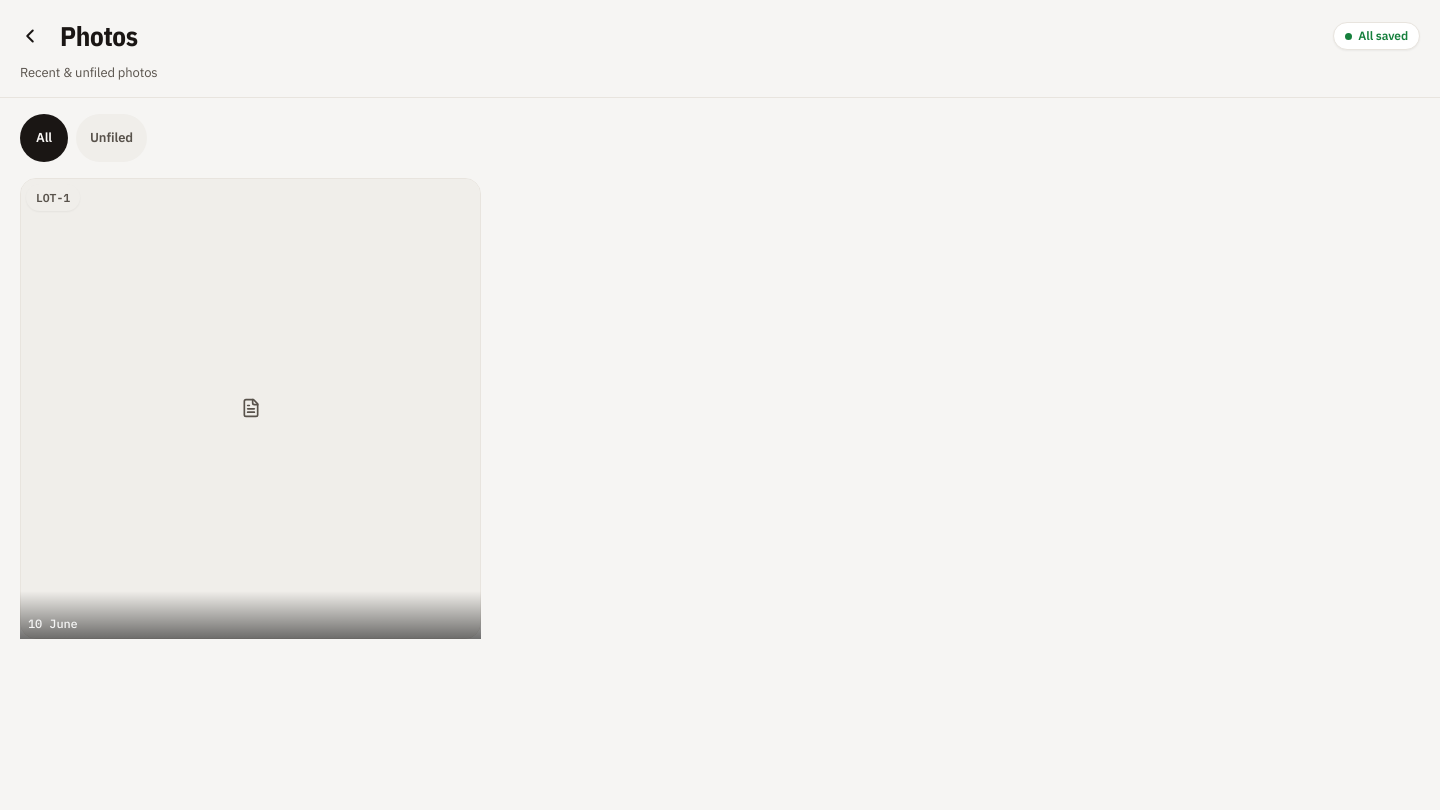
Scenario: PhotosListScreen › shows the tidy empty state when nothing is unfiled
The image size is (1440, 810).
Step 1. Click the button "Unfiled" → (112, 138), box [76,114,147,162]
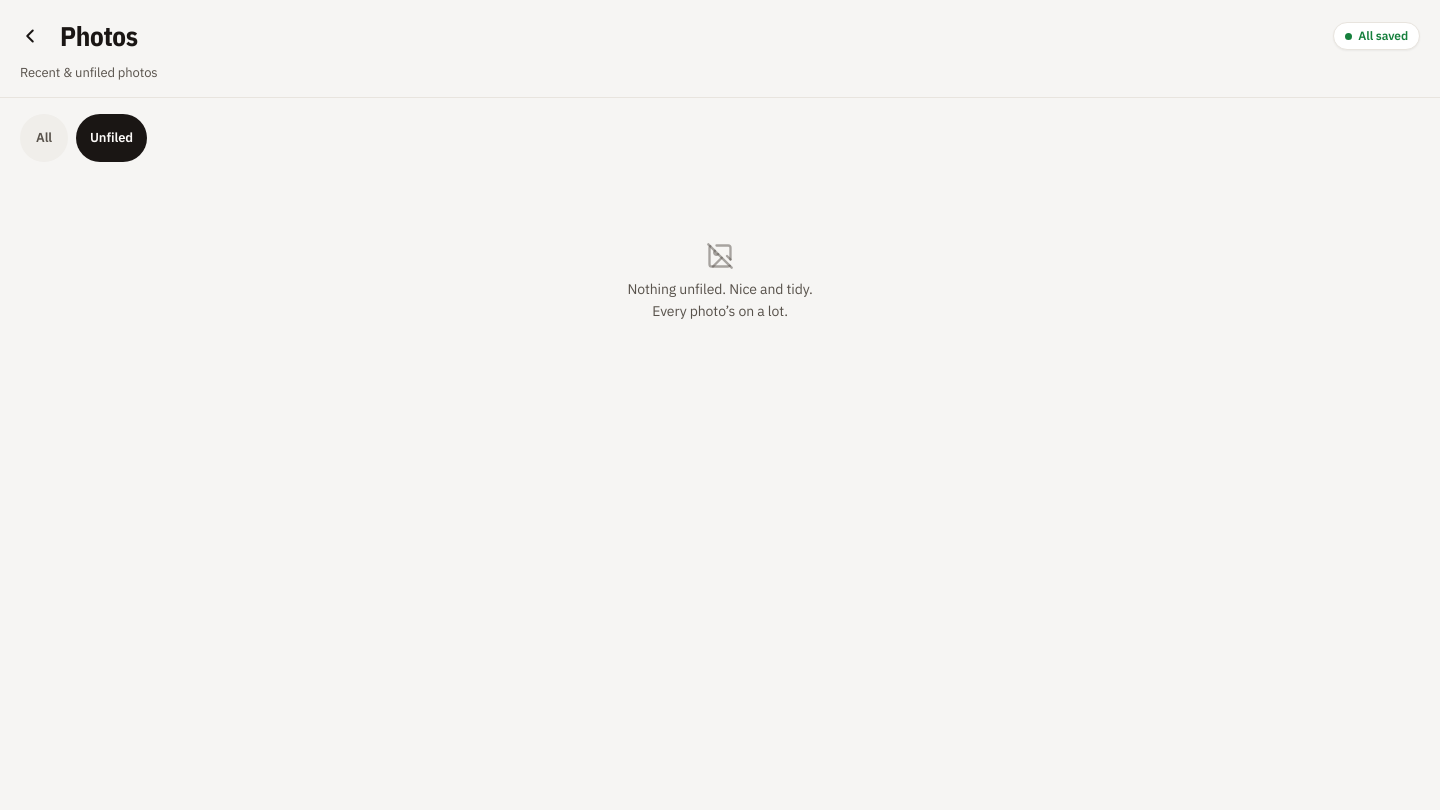
Result: the text "Nothing unfiled. Nice and tidy.Every photo’s on a lot." is shown at [627,278,813,323]
